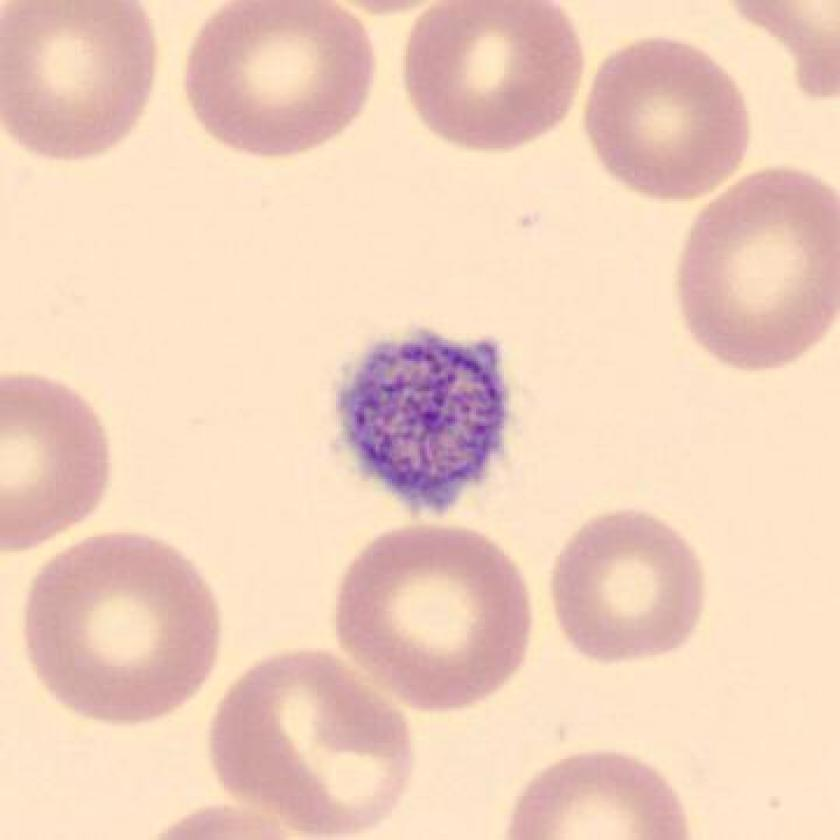platelets: (323, 323, 528, 529)
